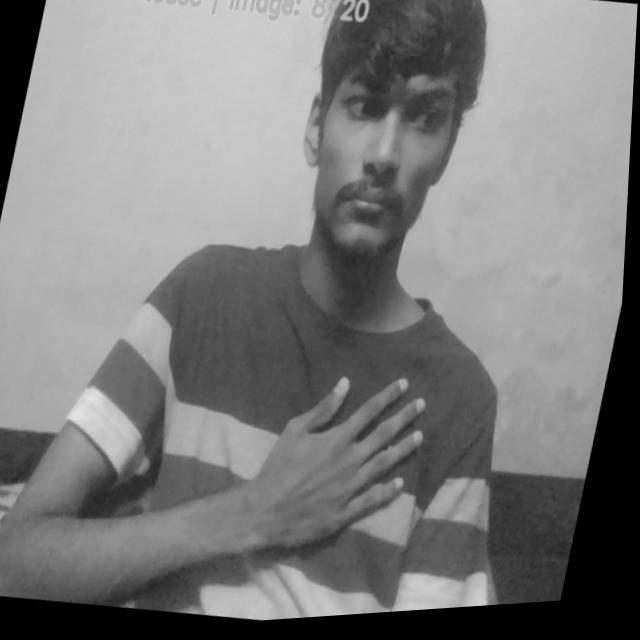Please: (246, 361, 441, 579)
